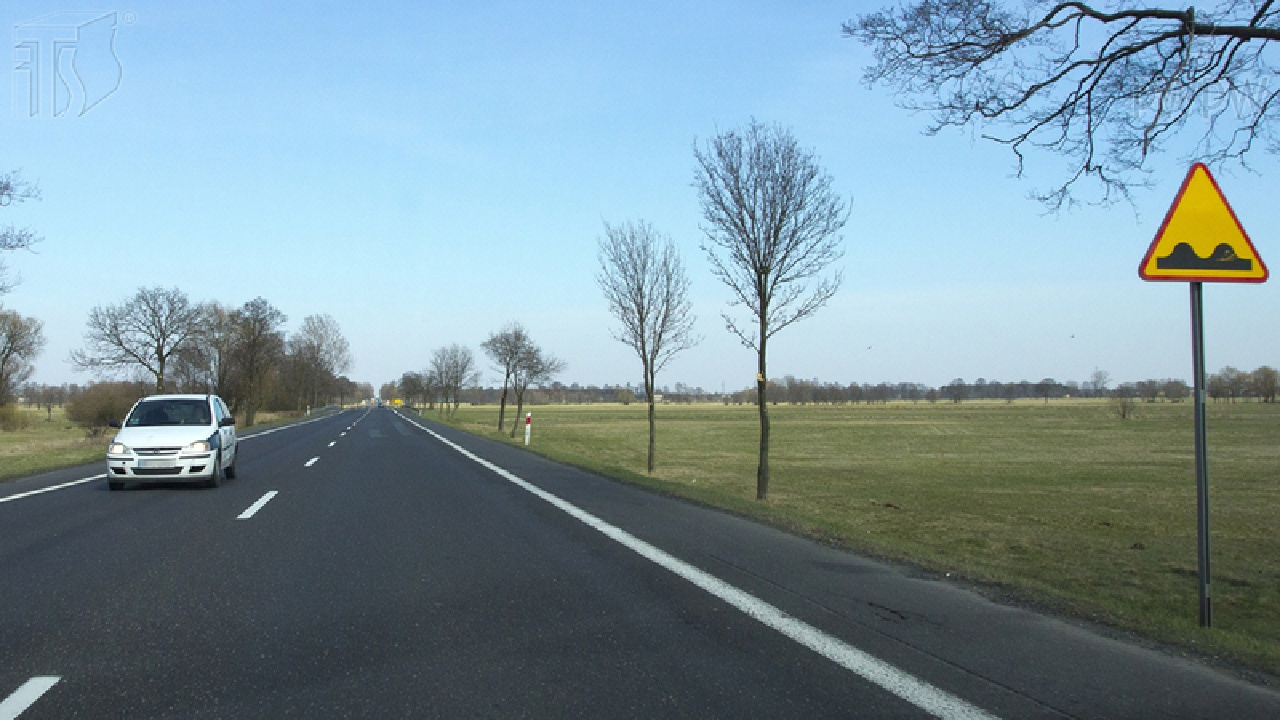A11: (1137, 163, 1270, 283)
